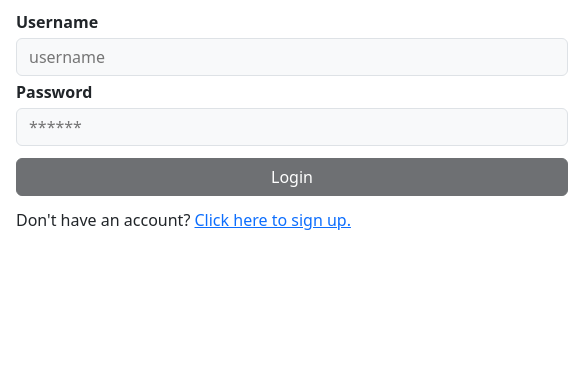
Scenario: App when user is not authenticated › should redirect to sign up page and back again to login
Expected: the text "Don't have an account?" is shown, [16,209,194,231]
Click the link "Click here to sign up." at (273, 220), box [194,209,351,231]
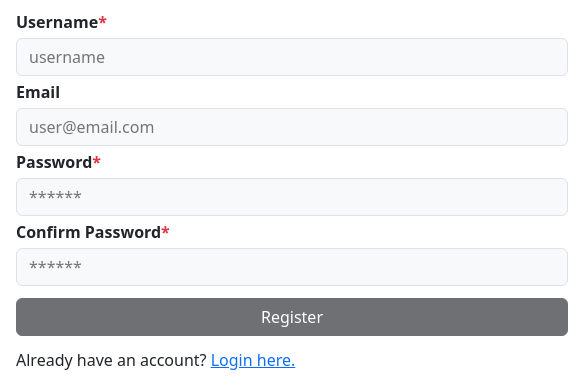
Result: the text "Already have an account?" is shown at [16,349,211,371]
Click the link "Login here." at (253, 360), box [211,349,295,371]
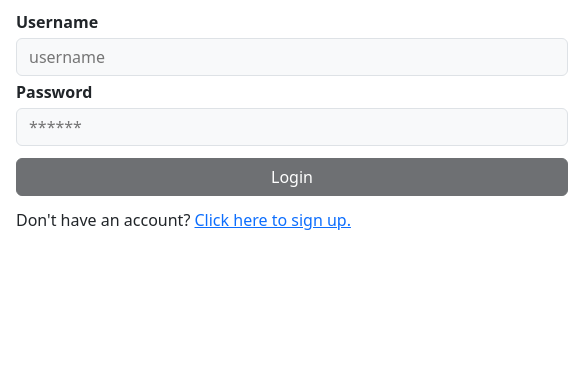
Result: the text "Don't have an account?" is shown at [16,209,194,231]
